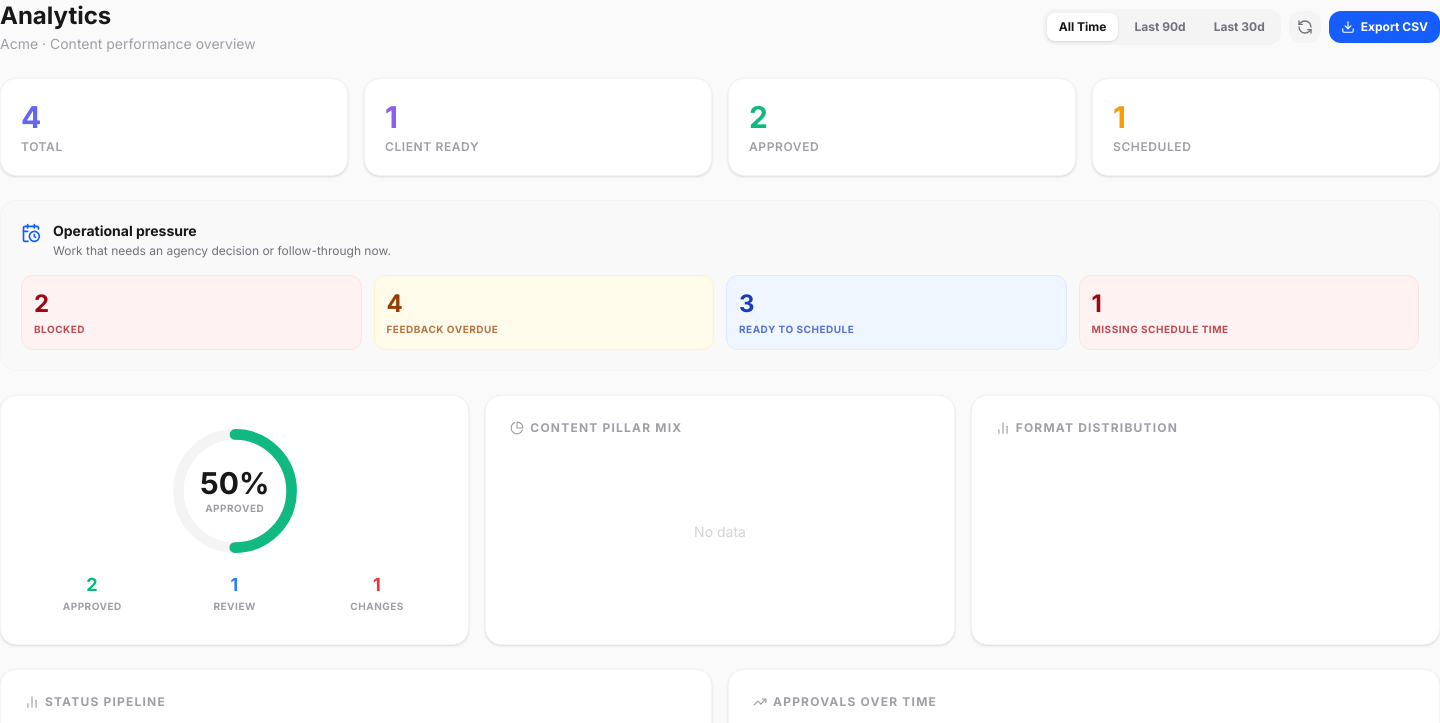
Test case: AnalyticsView export › surfaces an export failure instead of downloading an error response
Expected: the text "Acme · Content performance overview" is shown, [0, 34, 256, 54]
Click the button "Export CSV". click: (1384, 27)
box: [1329, 11, 1439, 43]
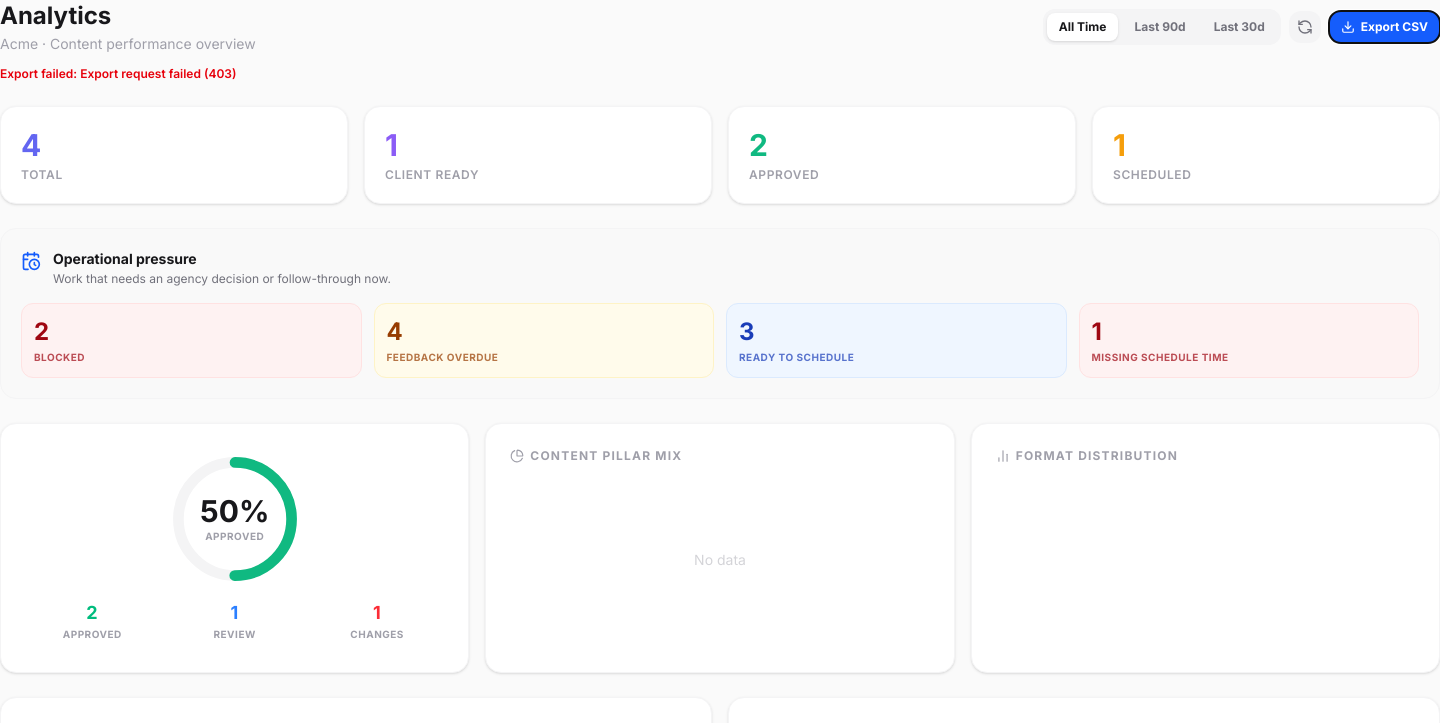
Result: the message shows "Export failed" at [0, 66, 236, 81]
